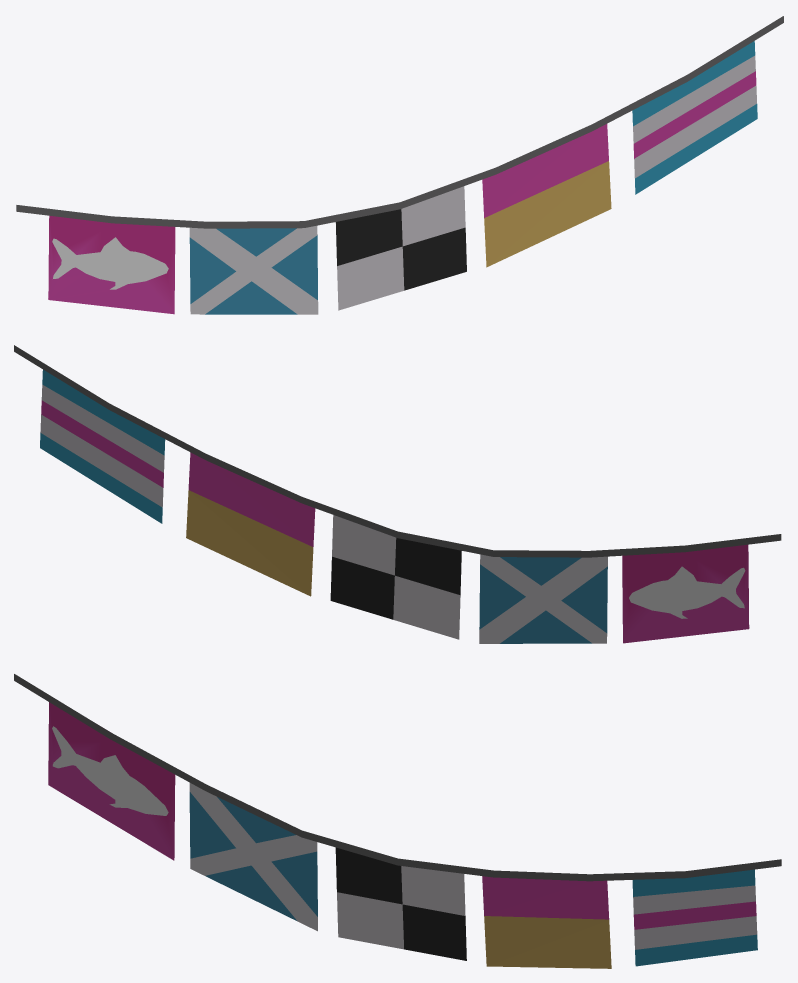
Rendered from BeachGateFlags_0.glb.
3 renders of one model, top to bottom at view 1: azimuth 30°, elevation 25°; view 2: azimuth 150°, elevation 25°; view 3: azimuth 330°, elevation 25°, orthographic.
Parts seen in each view (by area): view 1: BeachGateFlags; view 2: BeachGateFlags; view 3: BeachGateFlags.
Part boxes in pixels (x1,y1,x2,y2): BeachGateFlags: (16,16,783,314); BeachGateFlags: (14,345,781,643); BeachGateFlags: (14,674,781,968).
Size of the model in its own units: 3.08 by 0.7182 by 0.0179.
